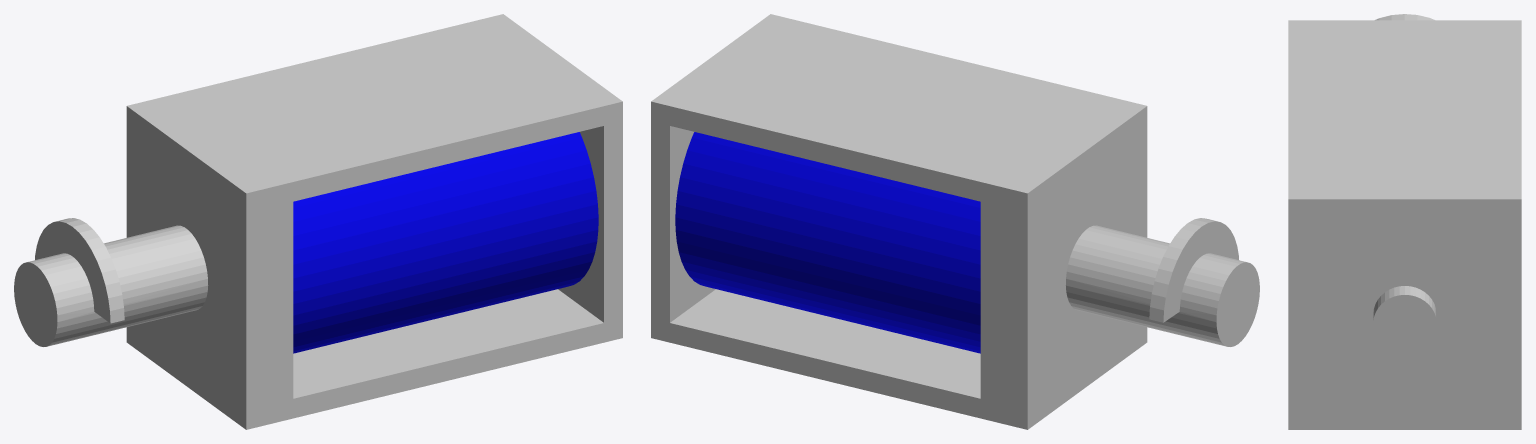
3 renders of one model, left to right at view 1: azimuth 30°, elevation 25°; view 2: azimuth 150°, elevation 25°; view 3: azimuth 270°, elevation 25°, orthographic. The views are drawn at different scales.
Visible parts, largest first — view 1: _1015; view 2: _1015; view 3: _1015.
Boxes of the visible parts, x1,y1,x2,y2 form: _1015: [14, 14, 622, 429]; _1015: [651, 14, 1259, 429]; _1015: [1288, 14, 1521, 429].
Bounding box in the file's own units: 29 × 11 × 12.
